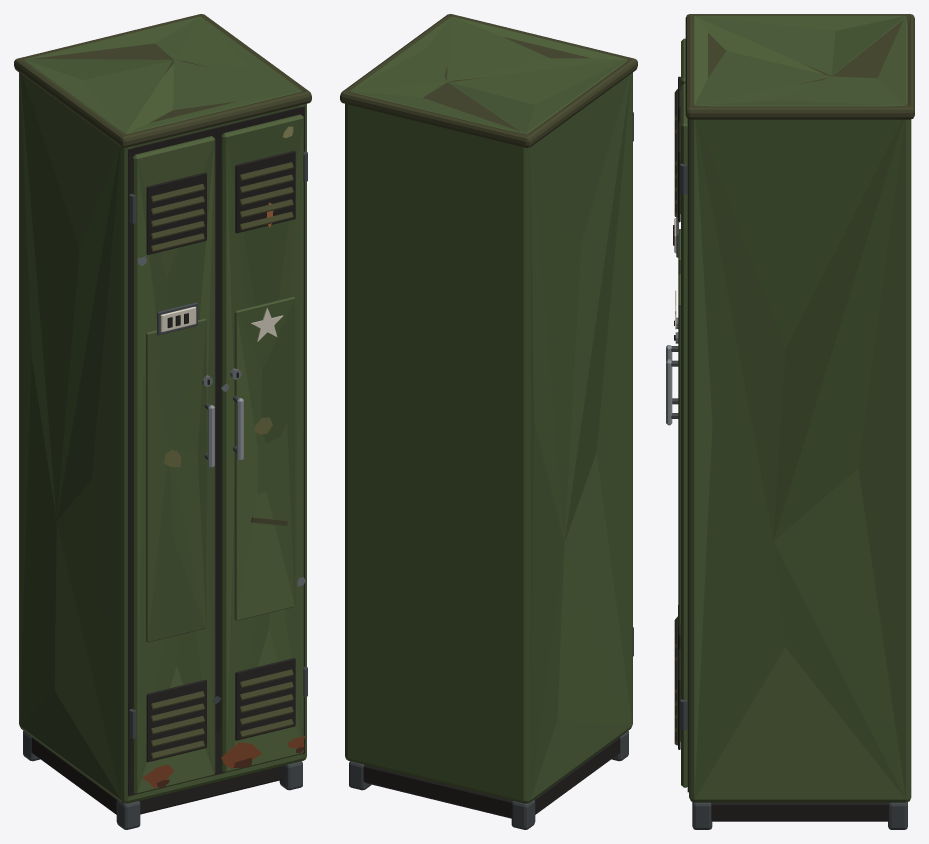
Rendered from locker_metal_armeyskiy_idle.glb.
3 renders of one model, left to right at view 1: azimuth 30°, elevation 25°; view 2: azimuth 150°, elevation 25°; view 3: azimuth 270°, elevation 25°, orthographic. The views are drawn at different scales.
Parts seen in each view (by area): view 1: locker_metal_armeyskiy_idle; view 2: locker_metal_armeyskiy_idle; view 3: locker_metal_armeyskiy_idle.
Part boxes in pixels (box(x1,y1,x2,y2)): locker_metal_armeyskiy_idle: box(14, 14, 311, 829); locker_metal_armeyskiy_idle: box(340, 14, 637, 829); locker_metal_armeyskiy_idle: box(666, 14, 914, 829).
Bounding box in the file's own units: 0.516 × 1.8 × 0.56.
Materials: 1 (1 with a texture image).
